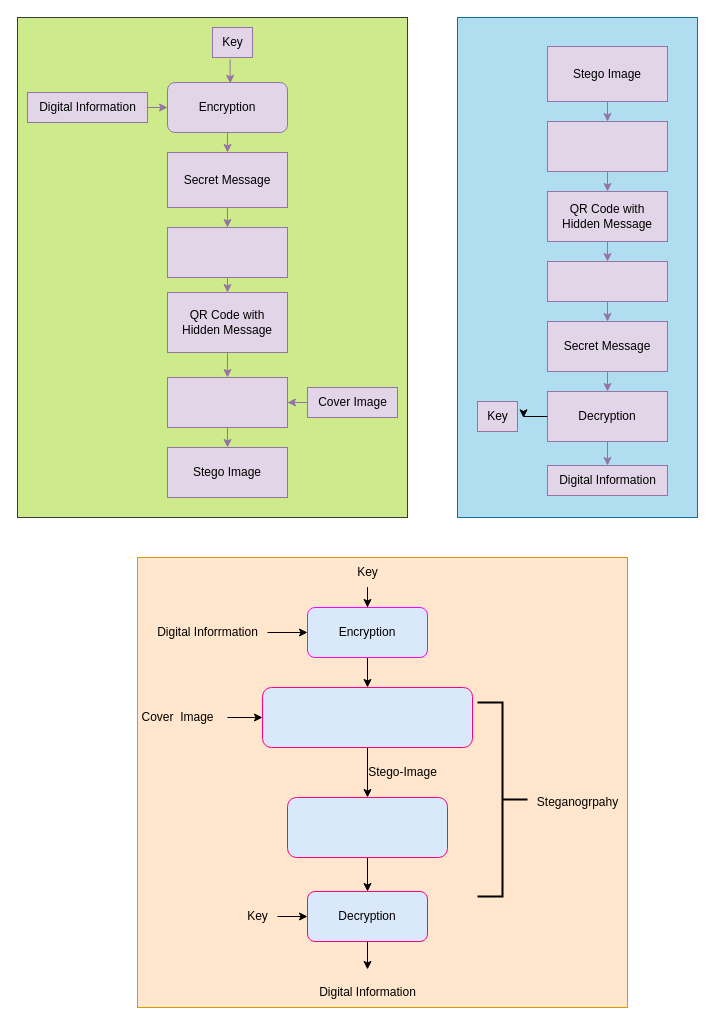
The diagram is 715 pixels wide and 1025 high, and some of its shapes have lost their labels. The box of each missing label's shape, as (x1, y1, x2, y2) in pixels:
Embedding using least significant bit insertion technique: (262, 686, 472, 748)
Extracting information from stego-image: (286, 796, 448, 858)
Extraction Process: (546, 120, 668, 172)
Hiding Process: (166, 376, 288, 428)
QR Code Generator: (166, 226, 288, 278)
QR Code Reader: (546, 260, 668, 302)
